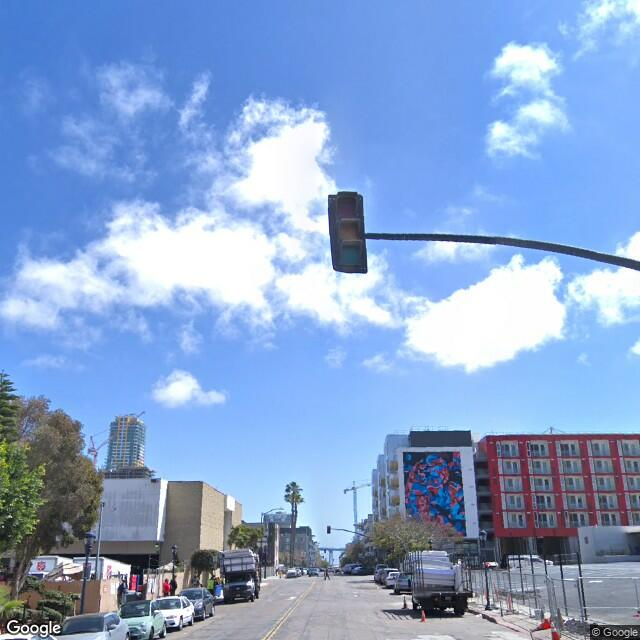window: (502, 456, 523, 474), (536, 510, 557, 527), (532, 477, 555, 491)
